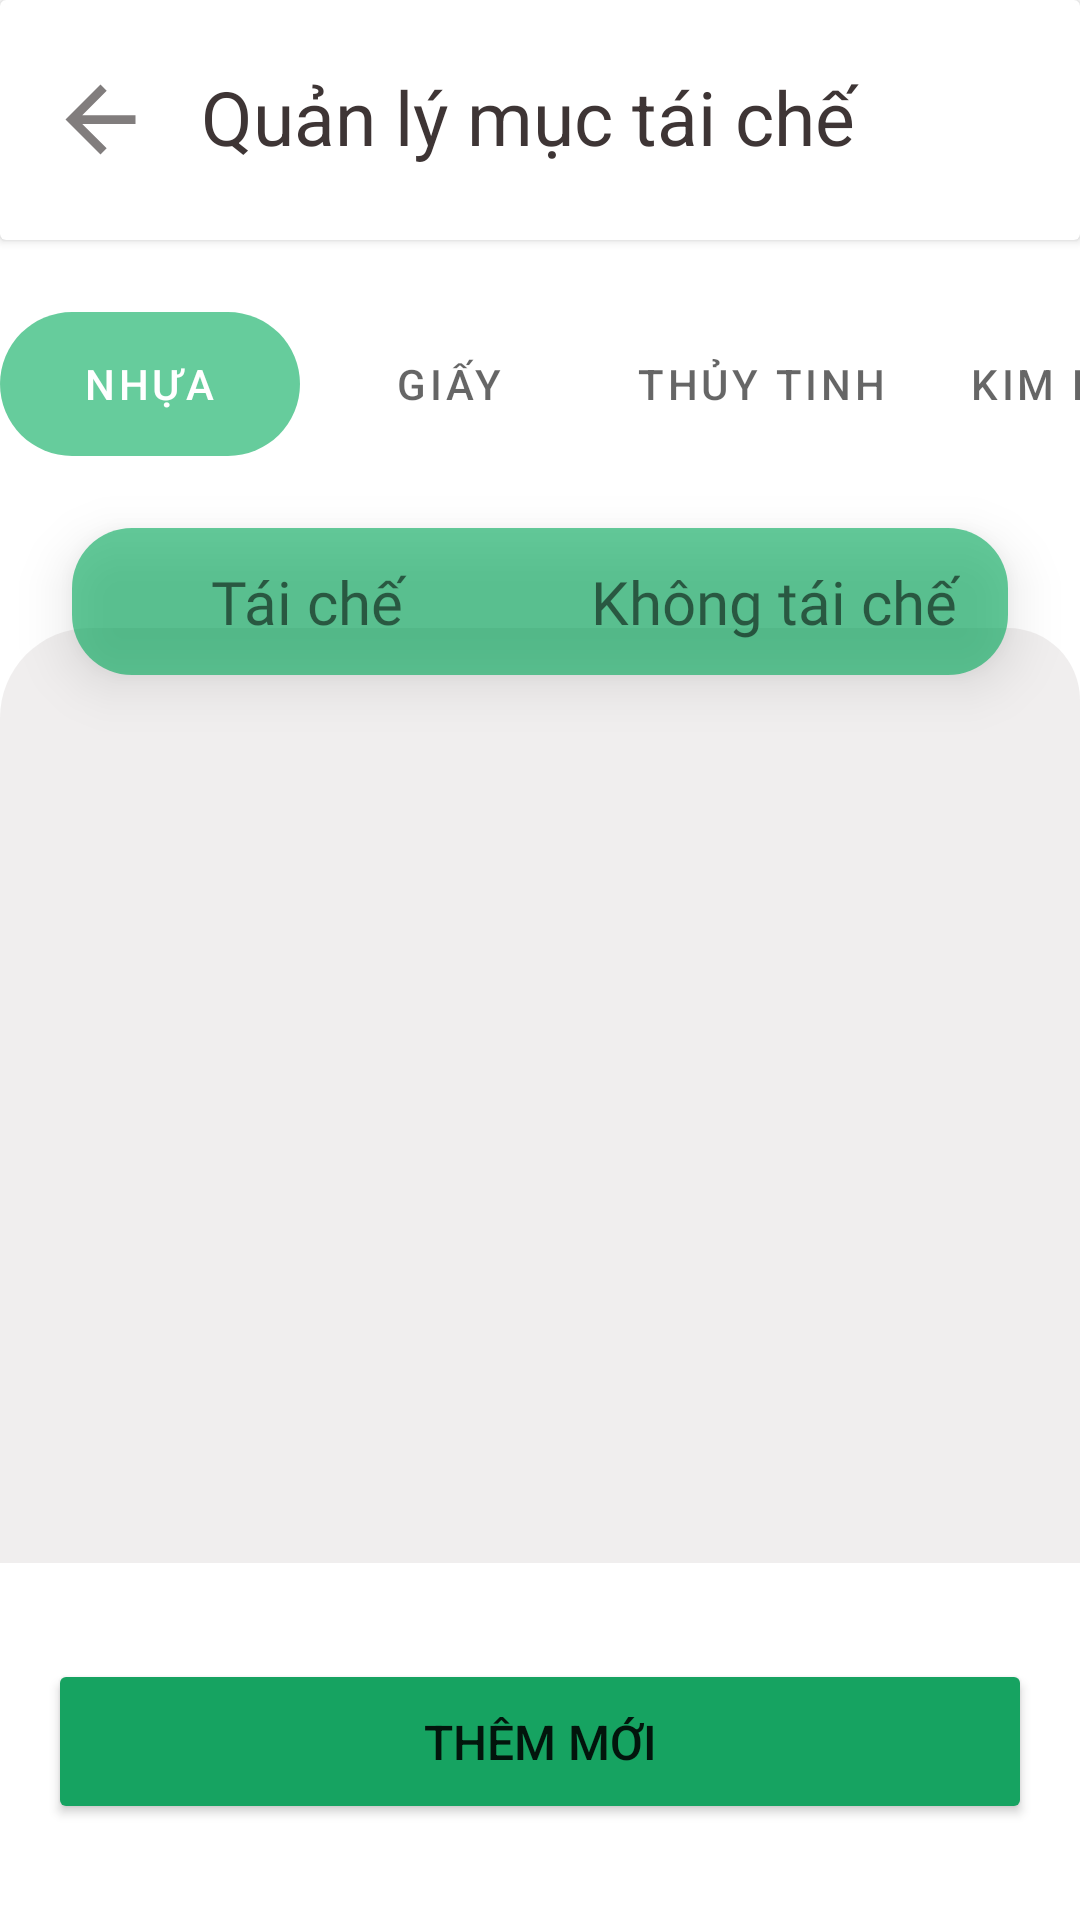

Icons on this 1080w x 1920h Android screen, each with its box as (x1, y1, x2, y2):
arrow back: (65, 84, 136, 155)
